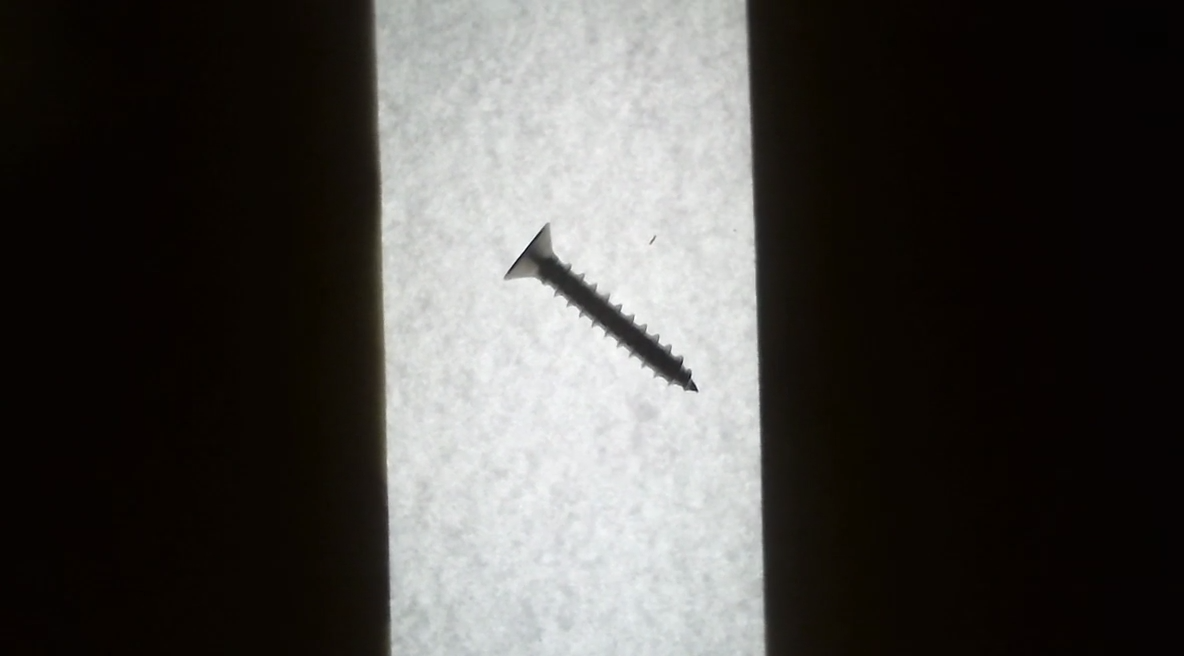S001: (486, 210, 718, 412)
